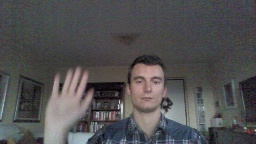Mano_aperta: (42, 63, 96, 129)
